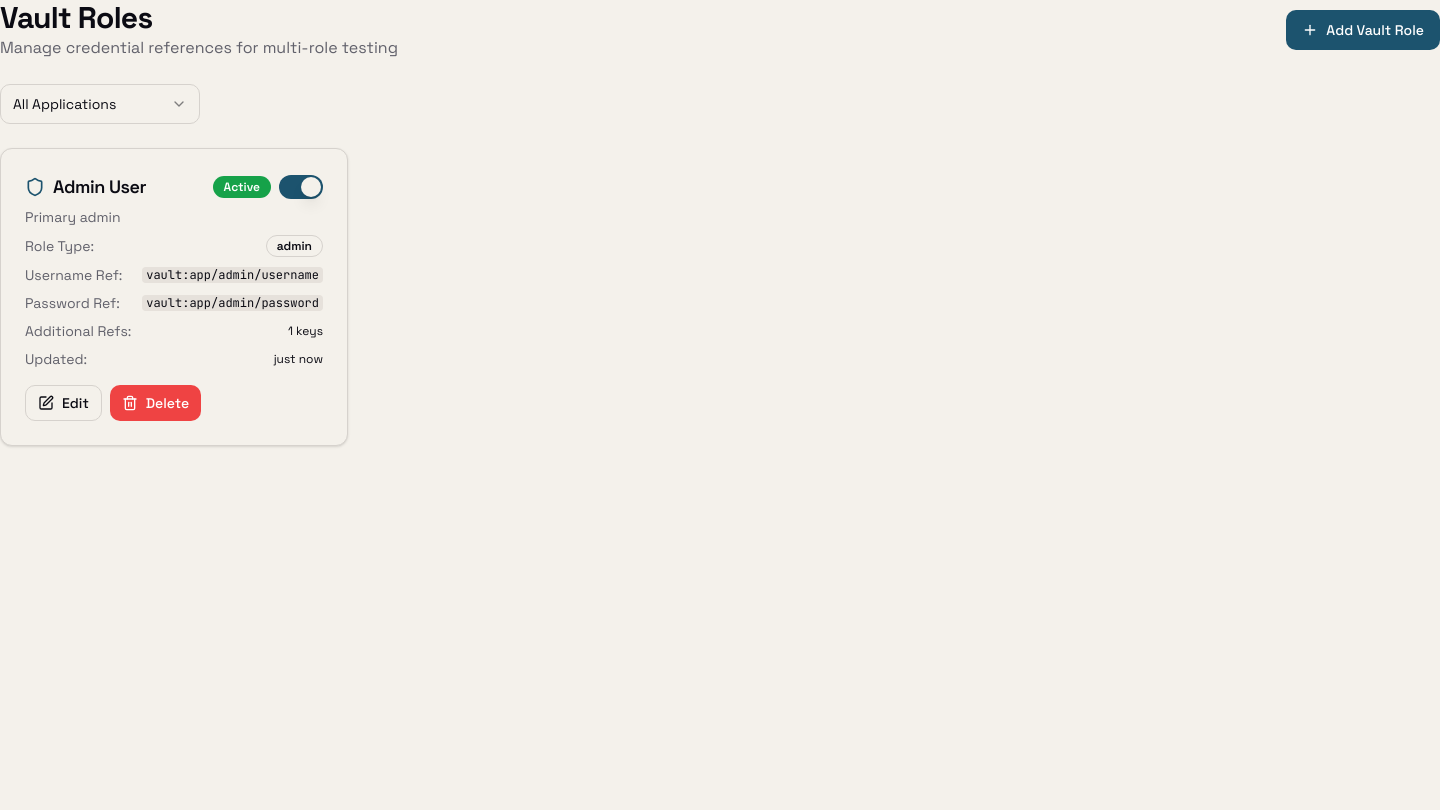
Test case: VaultManager — EditVaultRoleDialog (#531) › opens edit dialog pre-populated with role values when Edit clicked
Click the button "Edit".
click(63, 403)  # box [25, 385, 102, 421]
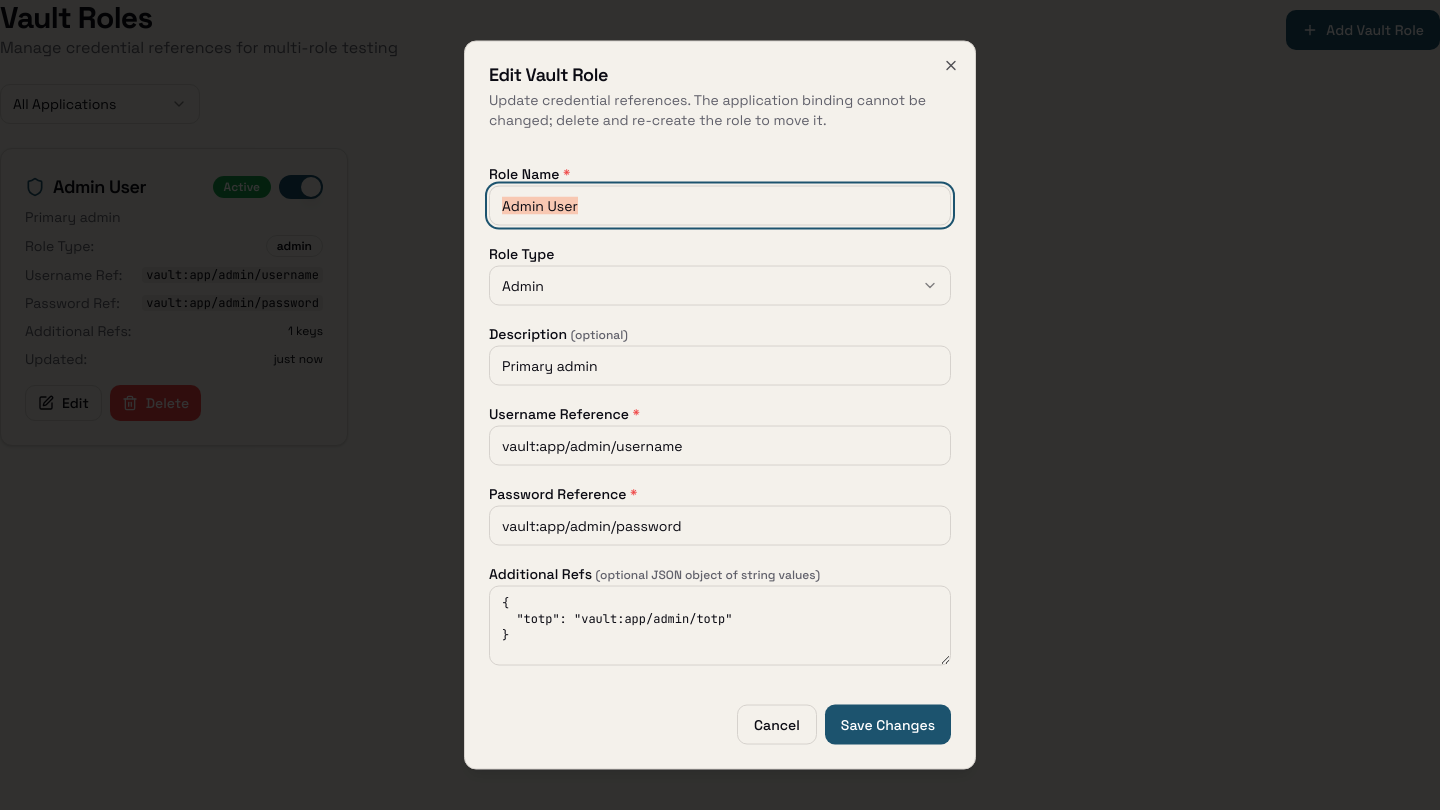
Expected: the heading "Edit Vault Role" is shown, [489, 62, 608, 86]
Expected: the field showing "Admin User" below "Role Name" is shown, [489, 186, 951, 226]
Expected: the field showing "Primary admin" below "Description" is shown, [489, 346, 951, 386]
